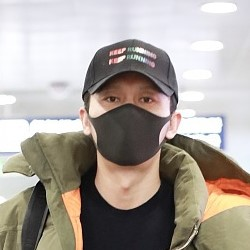mask: (89, 101, 169, 165)
